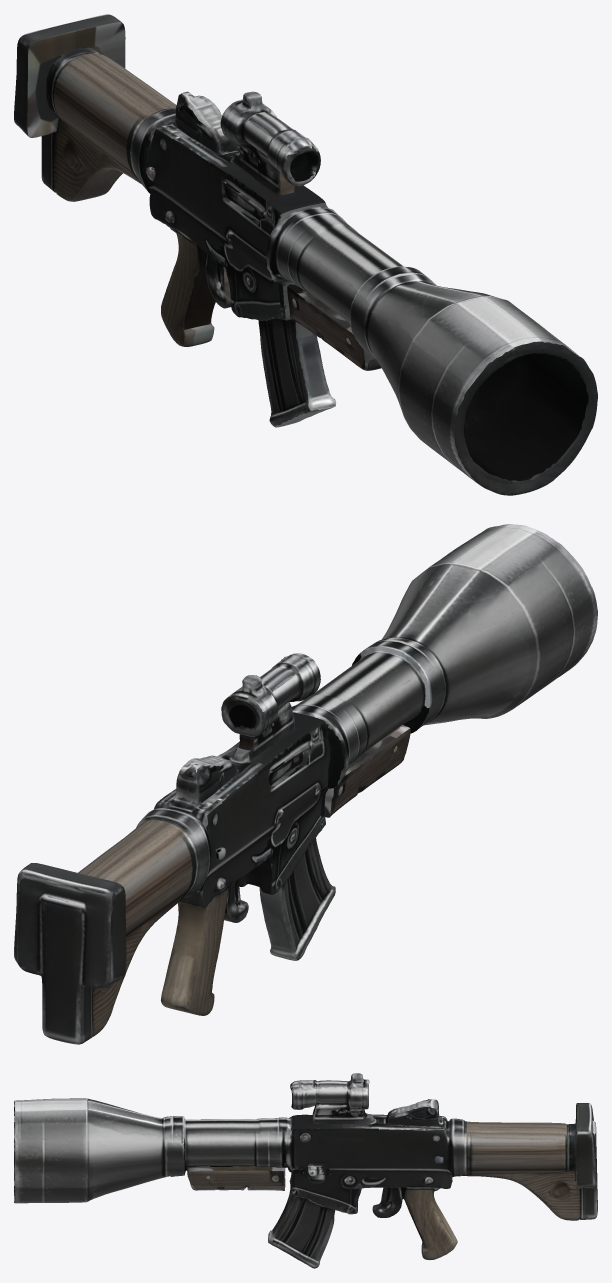
File: rocket lanher.glb
3 views of the same model, one above another, from view 1: azimuth 30°, elevation 25°; view 2: azimuth 150°, elevation 25°; view 3: azimuth 270°, elevation 25° (orthographic). The views are drawn at different scales.
Visible parts, largest first — view 1: Launcher; view 2: Launcher; view 3: Launcher.
Part boxes in pixels (<box>): Launcher: <box>14,14,597,495</box>; Launcher: <box>14,524,597,1044</box>; Launcher: <box>14,1073,597,1268</box>.
Size of the model in its own units: 0.1602 by 0.3247 by 0.9.
1 material, 1 textured.
